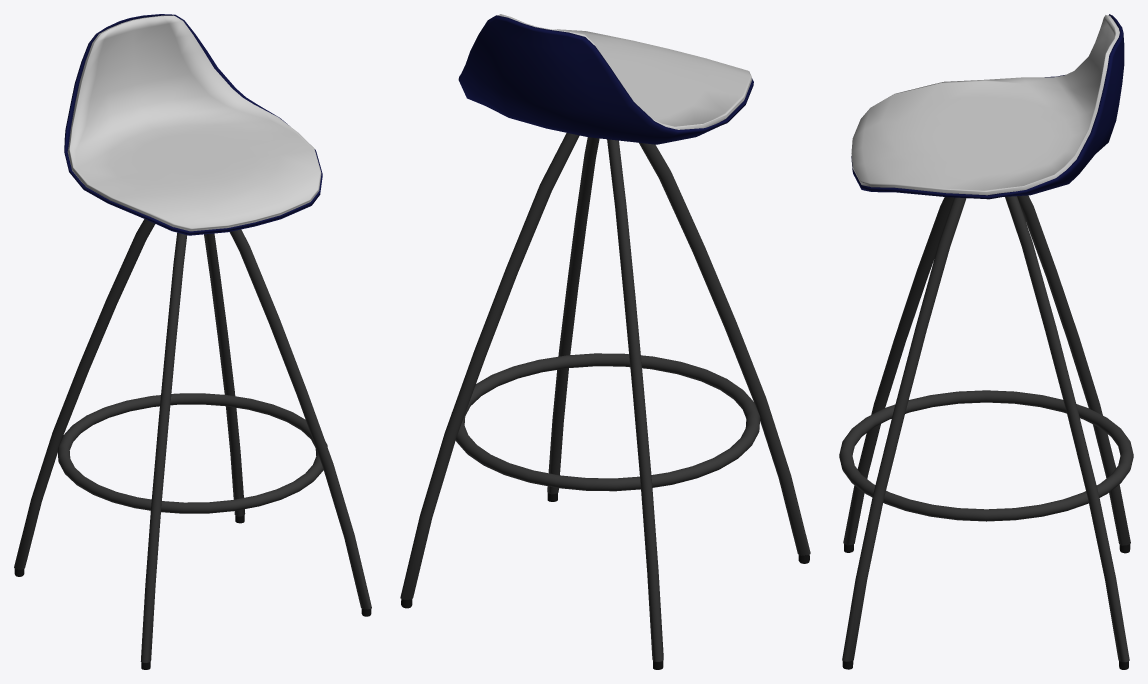
The model's file is kitchen_stool.obj.
The picture shows the model from 3 angles, left to right: view 1: azimuth 30°, elevation 25°; view 2: azimuth 150°, elevation 25°; view 3: azimuth 270°, elevation 25°; orthographic projection. The views are drawn at different scales.
Visible parts, largest first — view 1: leather_stool_Circle.003, stool_legs_Circle, foot_stool_Mesh, base_stool_Circle.002; view 2: stool_legs_Circle, base_stool_Circle.002, leather_stool_Circle.003, foot_stool_Mesh; view 3: leather_stool_Circle.003, stool_legs_Circle, foot_stool_Mesh, base_stool_Circle.002.
Part boxes in pixels (x1=…): leather_stool_Circle.003: x1=67, y1=15, x2=321, y2=231; stool_legs_Circle: x1=14, y1=219, x2=371, y2=669; foot_stool_Mesh: x1=57, y1=393, x2=327, y2=513; base_stool_Circle.002: x1=64, y1=14, x2=322, y2=235; stool_legs_Circle: x1=400, y1=133, x2=810, y2=669; base_stool_Circle.002: x1=458, y1=15, x2=753, y2=144; leather_stool_Circle.003: x1=498, y1=14, x2=752, y2=129; foot_stool_Mesh: x1=455, y1=353, x2=760, y2=491; leather_stool_Circle.003: x1=851, y1=15, x2=1119, y2=195; stool_legs_Circle: x1=842, y1=195, x2=1130, y2=669; foot_stool_Mesh: x1=839, y1=390, x2=1133, y2=521; base_stool_Circle.002: x1=851, y1=14, x2=1124, y2=199.
Bounding box in the file's own units: 45.46 × 98.36 × 45.46.
